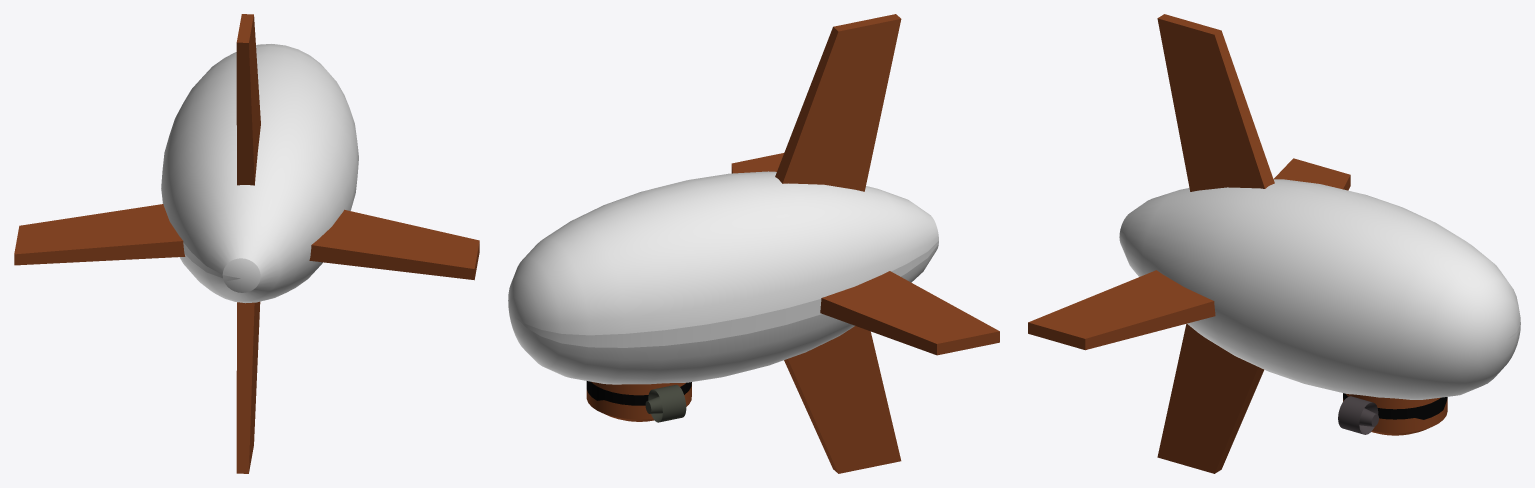
File: Building8.fbx
3 renders of one model, left to right at view 1: azimuth 30°, elevation 25°; view 2: azimuth 150°, elevation 25°; view 3: azimuth 270°, elevation 25°, orthographic. The views are drawn at different scales.
Parts seen in each view (by area): view 1: zepelin; view 2: zepelin; view 3: zepelin.
Boxes of the visible parts, left/top/right/bottom form: zepelin: left=14, top=14, right=479, bottom=473; zepelin: left=508, top=14, right=999, bottom=473; zepelin: left=1028, top=14, right=1520, bottom=473.
Bounding box in the file's own units: 1274 × 1332 × 1355.
